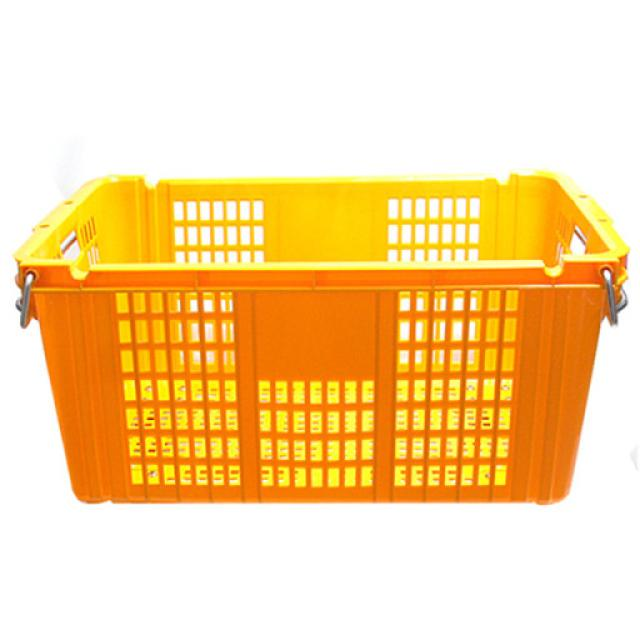basket: (13, 171, 630, 505)
